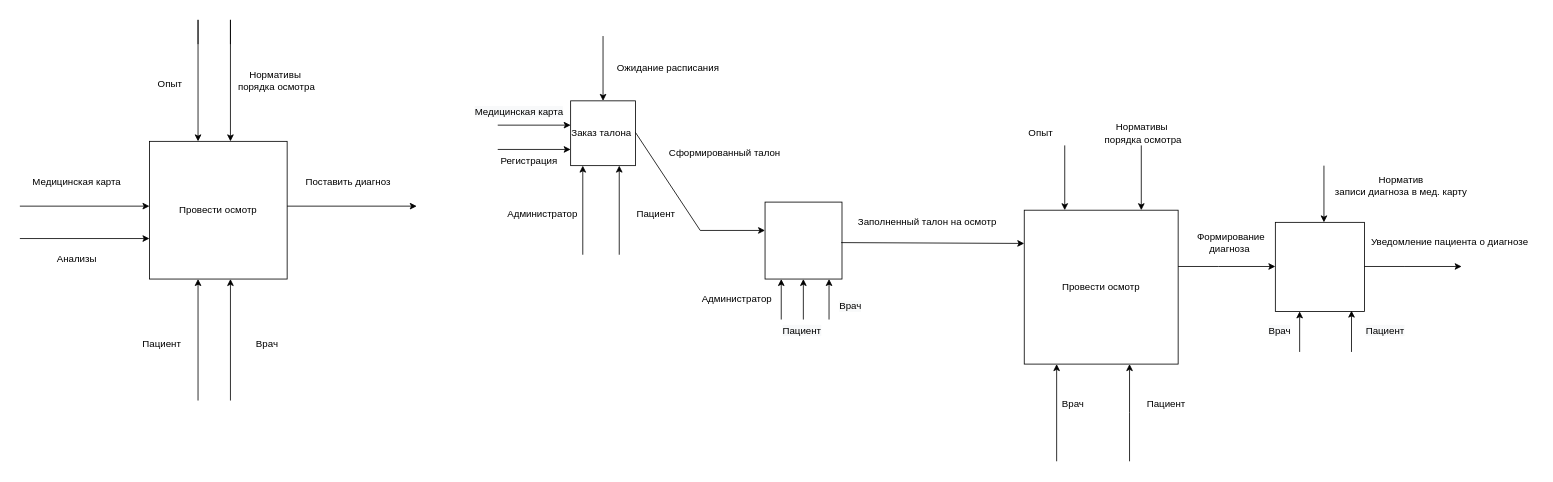
This 1553x482 diagram has some shape labels left out. The box of each missing label's shape, as (x1, y1, x2, y2) in pixels:
Диагноз: (1275, 222, 1364, 311)
Назначение времени осмотра: (764, 201, 842, 279)
